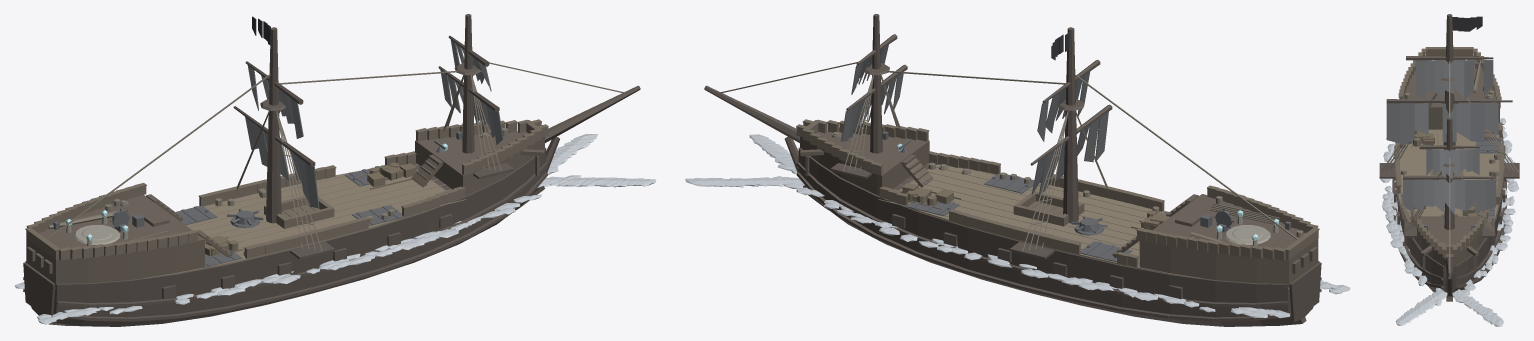
The model's file is arena_kraken.glb.
3 views of the same model, side by side, from view 1: azimuth 30°, elevation 25°; view 2: azimuth 150°, elevation 25°; view 3: azimuth 270°, elevation 25° (orthographic). The views are drawn at different scales.
Parts seen in each view (by area): view 1: KrakenArena_Base, KrakenArena_Rails, KrakenArena_Quarterdeck, KrakenArena_MainDeck, KrakenArena_Masts, KrakenArena_Foam, KrakenArena_SailDeco, KrakenArena_Forecastle, KrakenArena_RiggingDeco, KrakenArena_WrapMarkDeco, KrakenArena_CoverCoaming, KrakenArena_DebrisDeco (+4 smaller); view 2: KrakenArena_Base, KrakenArena_Rails, KrakenArena_Quarterdeck, KrakenArena_MainDeck, KrakenArena_Masts, KrakenArena_Foam, KrakenArena_SailDeco, KrakenArena_Forecastle, KrakenArena_RiggingDeco, KrakenArena_WrapMarkDeco, KrakenArena_CoverCoaming, KrakenArena_DebrisDeco (+3 smaller); view 3: KrakenArena_SailDeco, KrakenArena_Foam, KrakenArena_Base, KrakenArena_Rails, KrakenArena_Masts, KrakenArena_MainDeck, KrakenArena_Forecastle, KrakenArena_Quarterdeck, KrakenArena_RiggingDeco, KrakenArena_DebrisDeco, KrakenArena_WrapMarkDeco, KrakenArena_FlagDeco (+2 smaller).
Part boxes in pixels (x1,y1,x2,y2): KrakenArena_Base: (23, 137, 559, 326); KrakenArena_Rails: (25, 119, 548, 260); KrakenArena_Quarterdeck: (26, 194, 232, 287); KrakenArena_MainDeck: (55, 164, 466, 289); KrakenArena_Masts: (233, 14, 640, 223); KrakenArena_Foam: (14, 134, 656, 324); KrakenArena_SailDeco: (245, 39, 503, 208); KrakenArena_Forecastle: (411, 131, 544, 195); KrakenArena_RiggingDeco: (47, 59, 625, 251); KrakenArena_WrapMarkDeco: (176, 166, 405, 267); KrakenArena_CoverCoaming: (264, 196, 334, 228); KrakenArena_DebrisDeco: (48, 128, 515, 264); KrakenArena_Base: (784, 137, 1321, 326); KrakenArena_Rails: (796, 119, 1319, 267); KrakenArena_Quarterdeck: (1112, 194, 1318, 287); KrakenArena_MainDeck: (878, 164, 1289, 289); KrakenArena_Masts: (704, 14, 1112, 223); KrakenArena_Foam: (685, 134, 1350, 318); KrakenArena_SailDeco: (841, 45, 1108, 195); KrakenArena_Forecastle: (800, 128, 933, 195); KrakenArena_RiggingDeco: (719, 59, 1297, 251); KrakenArena_WrapMarkDeco: (906, 173, 1168, 262); KrakenArena_CoverCoaming: (1013, 191, 1084, 226); KrakenArena_DebrisDeco: (831, 132, 1303, 242); KrakenArena_SailDeco: (1386, 60, 1498, 214); KrakenArena_Foam: (1379, 118, 1519, 326); KrakenArena_Base: (1379, 122, 1519, 301); KrakenArena_Rails: (1395, 47, 1504, 257); KrakenArena_Masts: (1386, 14, 1512, 279); KrakenArena_MainDeck: (1398, 129, 1502, 274); KrakenArena_Forecastle: (1412, 214, 1487, 274); KrakenArena_Quarterdeck: (1403, 56, 1499, 139); KrakenArena_RiggingDeco: (1380, 61, 1518, 273); KrakenArena_DebrisDeco: (1400, 60, 1499, 245); KrakenArena_WrapMarkDeco: (1400, 137, 1501, 221); KrakenArena_FlagDeco: (1452, 16, 1482, 31).
Size of the model in its own units: 211 by 85.4 by 51.21.
